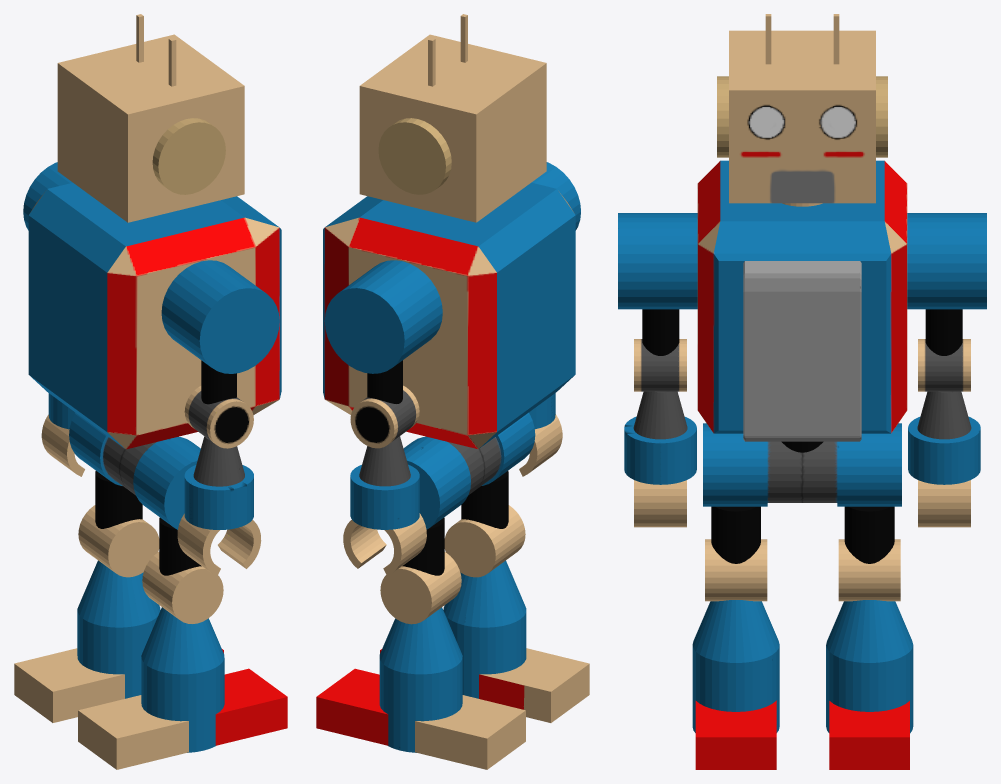
Rendered from Robot.obj.
3 renders of one model, left to right at view 1: azimuth 30°, elevation 25°; view 2: azimuth 150°, elevation 25°; view 3: azimuth 270°, elevation 25°, orthographic. The views are drawn at different scales.
Parts seen in each view (by area): view 1: Robot; view 2: Robot; view 3: Robot.
Part boxes in pixels (<box>): Robot: <box>14,14,287,769</box>; Robot: <box>316,14,589,769</box>; Robot: <box>618,14,986,769</box>.
Size of the model in its own units: 1.15 by 4.05 by 1.9.
Materials: 1 (1 with a texture image).
